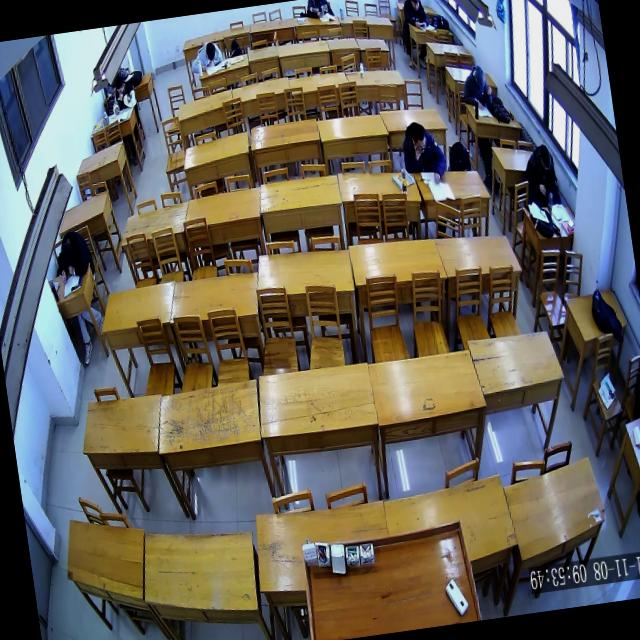bow: (54, 230, 96, 284), (188, 41, 224, 74)
down: (109, 74, 139, 116), (410, 122, 428, 156), (538, 144, 552, 172), (60, 242, 74, 268), (474, 66, 486, 89), (114, 76, 126, 96), (205, 41, 217, 60), (409, 0, 420, 11)
sit: (400, 119, 450, 188), (522, 144, 560, 208), (459, 65, 494, 106), (402, 0, 430, 30)
